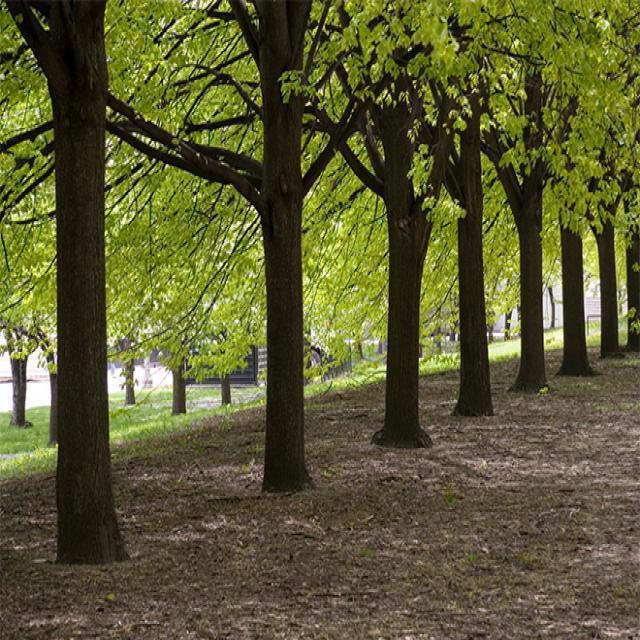tree: (20, 0, 137, 556), (228, 0, 326, 494), (364, 4, 448, 461), (444, 2, 502, 411), (546, 0, 595, 387), (512, 2, 554, 390), (598, 22, 620, 363), (629, 16, 640, 353)
